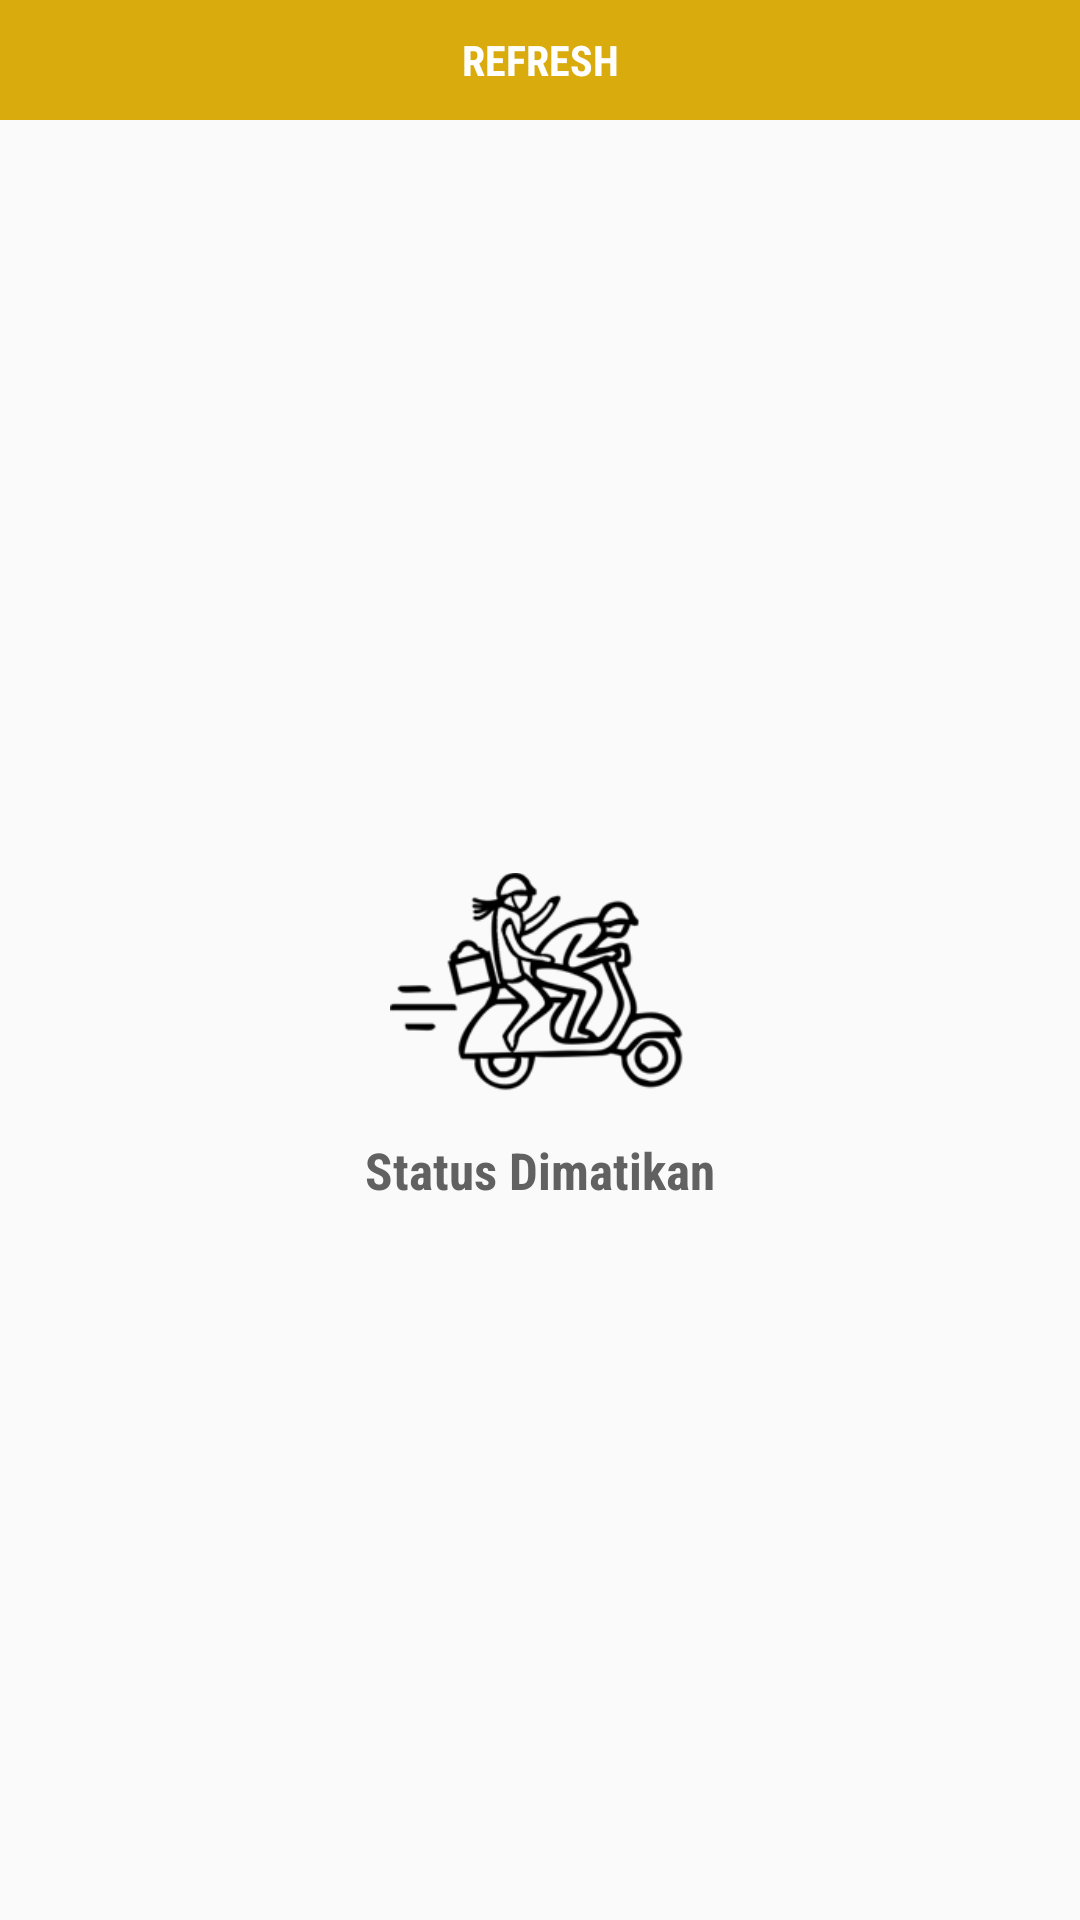

Screen size 1080×1920. Icon name, then its center in pixels as [x,y]:
motor: [536,981]
